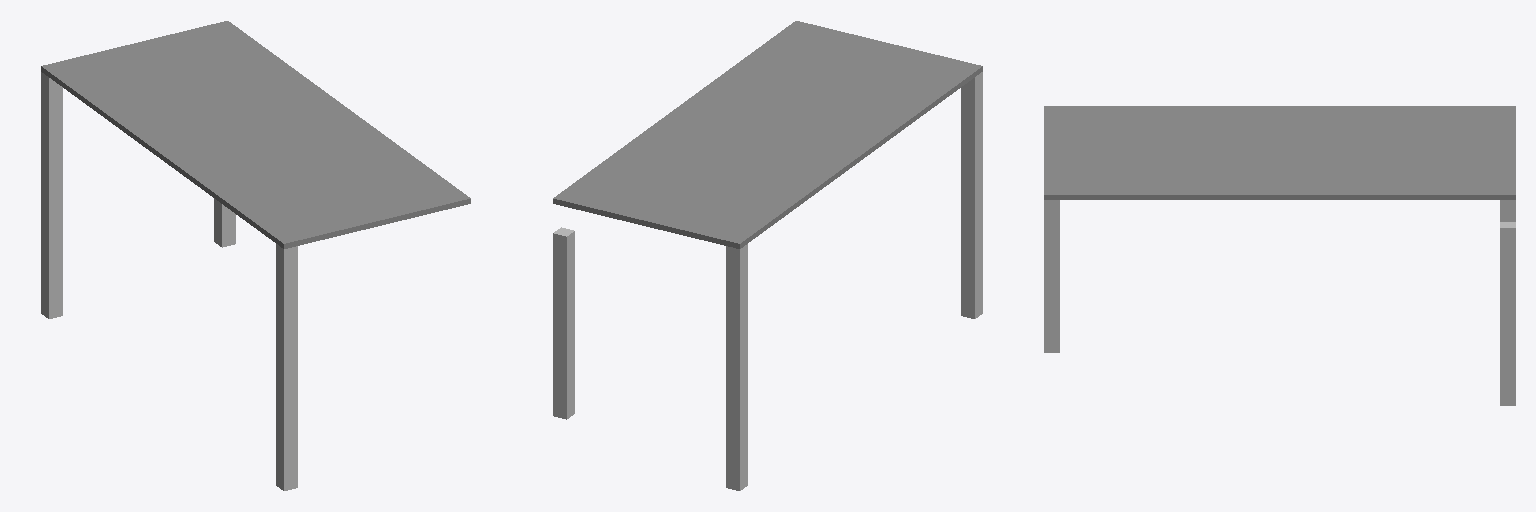
robot.urdf — plane:
<?xml version="1.0" ?>
<robot name="plane">

    <link name="link_plane">
        <contact>
            <lateral_friction value="1"/>
        </contact>

        <inertial>
            <origin rpy="0 0 0" xyz="0 0 0"/>
            <mass value=".0"/>
            <inertia ixx="0" ixy="0" ixz="0" iyy="0" iyz="0" izz="0"/>
        </inertial>
            
        <visual>
            <origin rpy="0 0 0" xyz="0 0 0"/>
            <geometry>
                <mesh filename="mesh/high_table/link_plane.obj"/>
                <!-- <box size="0.802 1.806 0.022"/> -->
            </geometry>
            <material name="table_gray"/>
        </visual>

        <collision>
            <origin rpy="0 0 0" xyz="0 0 0"/>
            <geometry>
                <mesh filename="mesh/high_table/link_plane.obj"/>
                <!-- <box size="0.802 1.806 0.022"/> -->
            </geometry>
        </collision>
        
    </link>

    <link name="link_leg1">
        <contact>
            <lateral_friction value="1"/>
        </contact>

        <inertial>
            <origin rpy="0 0 0" xyz="0 0 0"/>
            <mass value=".0"/>
            <inertia ixx="0" ixy="0" ixz="0" iyy="0" iyz="0" izz="0"/>
        </inertial>
            
        <visual>
            <origin rpy="0 0 0" xyz="0 0 0"/>
            <geometry>
                <mesh filename="mesh/high_table/link_leg1.obj"/>
                <!-- <box size="0.06 0.06 0.993"/> -->
            </geometry>
            <material name="leg_gray"/>
        </visual>

        <collision>
            <origin rpy="0 0 0" xyz="0 0 0"/>
            <geometry>
                <mesh filename="mesh/high_table/link_leg1.obj"/>
                <!-- <box size="0.06 0.06 0.993"/> -->
            </geometry>
        </collision>
        
    </link>

    <link name="link_leg2">
        <contact>
            <lateral_friction value="1"/>
        </contact>

        <inertial>
            <origin rpy="0 0 0" xyz="0 0 0"/>
            <mass value=".0"/>
            <inertia ixx="0" ixy="0" ixz="0" iyy="0" iyz="0" izz="0"/>
        </inertial>
            
        <visual>
            <origin rpy="0 0 0" xyz="0 0 0"/>
            <geometry>
                <mesh filename="mesh/high_table/link_leg2.obj"/>
                <!-- <box size="0.06 0.06 0.993"/> -->
            </geometry>
            <material name="leg_gray"/>
        </visual>

        <collision>
            <origin rpy="0 0 0" xyz="0 0 0"/>
            <geometry>
                <mesh filename="mesh/high_table/link_leg2.obj"/>
                <!-- <box size="0.06 0.06 0.993"/> -->
            </geometry>
    </collision>
        
    </link>

    <link name="link_leg3">
        <contact>
            <lateral_friction value="1"/>
        </contact>

        <inertial>
            <origin rpy="0 0 0" xyz="0 0 0"/>
            <mass value=".0"/>
            <inertia ixx="0" ixy="0" ixz="0" iyy="0" iyz="0" izz="0"/>
        </inertial>
            
        <visual>
            <origin rpy="0 0 0" xyz="0 0 0"/>
            <geometry>
                <mesh filename="mesh/high_table/link_leg3.obj"/>
                <!-- <box size="0.06 0.06 0.993"/> -->
            </geometry>
            <material name="leg_gray"/>
        </visual>

        <collision>
            <origin rpy="0 0 0" xyz="0 0 0"/>
            <geometry>
                <mesh filename="mesh/high_table/link_leg3.obj"/>
                <!-- <box size="0.06 0.06 0.993"/> -->
            </geometry>
        </collision>
        
    </link>

    <link name="link_leg4">
        <contact>
            <lateral_friction value="1"/>
        </contact>

        <inertial>
            <origin rpy="0 0 0" xyz="0 0 0"/>
            <mass value=".0"/>
            <inertia ixx="0" ixy="0" ixz="0" iyy="0" iyz="0" izz="0"/>
        </inertial>
            
        <visual>
            <origin rpy="0 0 0" xyz="0 0 0"/>
            <geometry>
                <mesh filename="mesh/high_table/link_leg4.obj"/>
                <!-- <box size="0.06 0.06 0.993"/> -->
            </geometry>
            <material name="leg_gray"/>
        </visual>

        <collision>
            <origin rpy="0 0 0" xyz="0 0 0"/>
            <geometry>
                <mesh filename="mesh/high_table/link_leg4.obj"/>
                <!-- <box size="0.06 0.06 0.993"/> -->
            </geometry>
        </collision>
        
    </link>

    <joint name="fixed_joint1" type="fixed">
        <parent link="link_plane"/>
        <child link="link_leg1"/>
        <origin rpy="0 0 0.0" xyz="0.371 0.873 -0.507"/>
    </joint>

    <joint name="fixed_joint2" type="fixed">
        <parent link="link_plane"/>
        <child link="link_leg2"/>
        <origin rpy="0 0 0.0" xyz="-0.371 0.873 -0.507"/>
    </joint>

    <joint name="fixed_joint3" type="fixed">
        <parent link="link_plane"/>
        <child link="link_leg3"/>
        <origin rpy="0 0 0.0" xyz="0.371 -0.873 -0.507"/>
    </joint>

    <joint name="fixed_joint4" type="fixed">
        <parent link="link_plane"/>
        <child link="link_leg4"/>
        <origin rpy="0 0 0.0" xyz="-0.371 -0.873 -0.507"/>
    </joint>

    <material name="table_gray">
        <color rgba=".6 .6 .6 1.0"/>
    </material>

    <material name="leg_gray">
        <color rgba=".8 .8 .8 1.0"/>
    </material>

</robot>

--- What the picture shows (computed from the rendered views, not written in the file) ---
3 views of the same robot in one strip: view 1: azimuth 30°, elevation 25°; view 2: azimuth 150°, elevation 25°; view 3: azimuth 270°, elevation 25° (orthographic).
Robot: plane — 5 links, 4 joints (4 fixed); root link link_plane; default pose: all joints at 0.
Links seen in each view (by area): view 1: link_plane, link_leg4, link_leg2, link_leg1; view 2: link_plane, link_leg2, link_leg4, link_leg1; view 3: link_plane, link_leg1, link_leg4.
Link boxes in pixels (left/top/right/bottom): link_plane: left=41, top=21, right=470, bottom=248; link_leg4: left=276, top=244, right=297, bottom=490; link_leg2: left=41, top=72, right=62, bottom=318; link_leg1: left=214, top=198, right=235, bottom=247; link_plane: left=553, top=21, right=982, bottom=248; link_leg2: left=726, top=244, right=747, bottom=490; link_leg4: left=961, top=72, right=982, bottom=318; link_leg1: left=553, top=227, right=574, bottom=419; link_plane: left=1044, top=106, right=1515, bottom=199; link_leg1: left=1500, top=222, right=1515, bottom=405; link_leg4: left=1044, top=200, right=1059, bottom=352.
Size in the robot's own frame: 0.802 by 1.81 by 1.01 metres.
Meshes: 5 distinct files referenced, 4 mesh visuals loaded (4 OBJ); not drawn: 1 (reference not matched to a file when rendering).